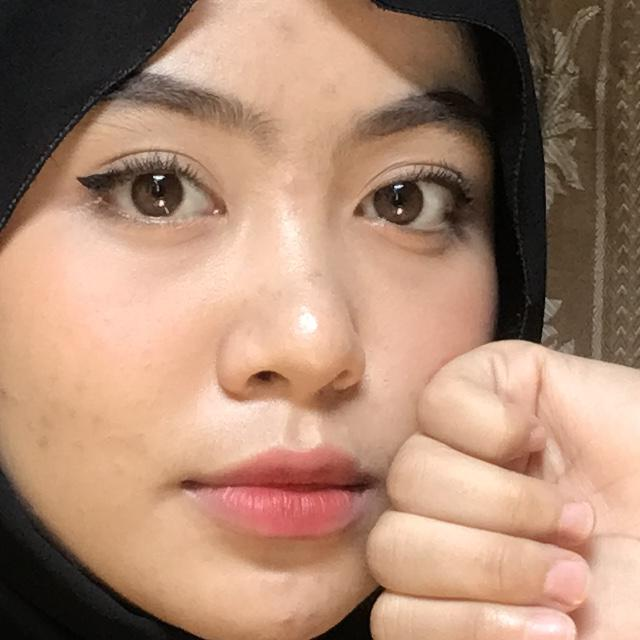sedih: (270, 206, 640, 640)
